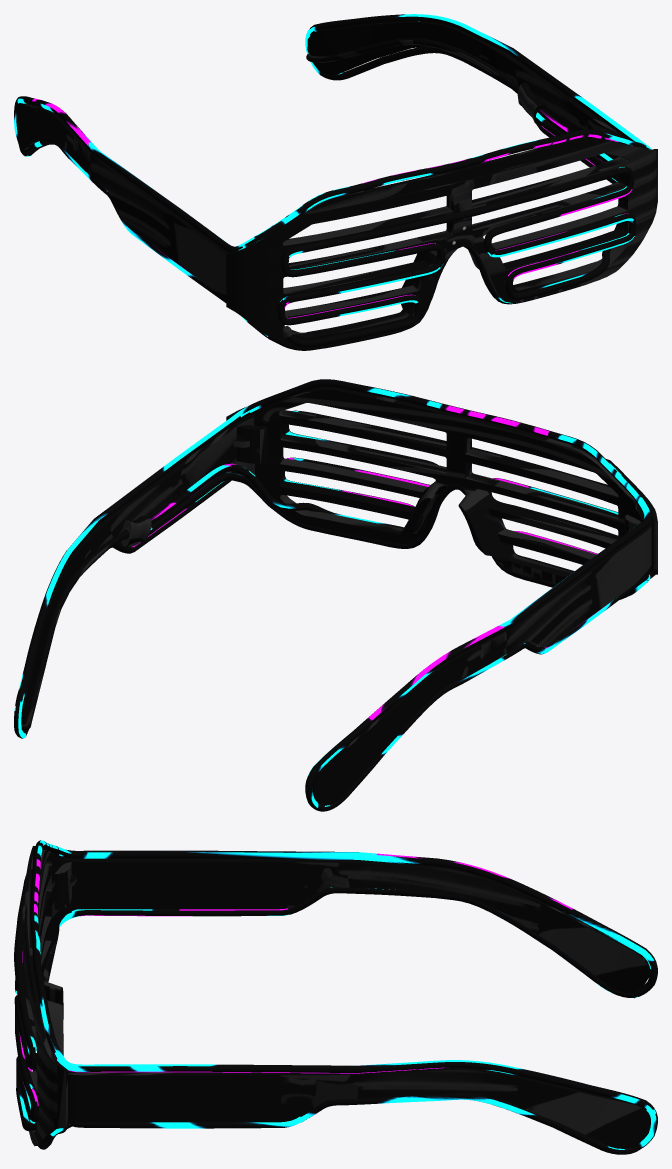
The model's file is PartyGlass.gltf.
3 renders of one model, top to bottom at view 1: azimuth 30°, elevation 25°; view 2: azimuth 150°, elevation 25°; view 3: azimuth 270°, elevation 25°, orthographic. The views are drawn at different scales.
Parts seen in each view (by area): view 1: Cube.010, Cube.007; view 2: Cube.010, Cube.007; view 3: Cube.010, Cube.007.
Boxes of the visible parts, x1,y1,x2,y2 form: Cube.010: [16, 21, 657, 349]; Cube.007: [14, 14, 650, 350]; Cube.010: [21, 386, 657, 805]; Cube.007: [14, 379, 651, 811]; Cube.010: [22, 846, 650, 1148]; Cube.007: [14, 840, 657, 1154].
Bounding box in the file's own units: 515 × 183 × 631.
